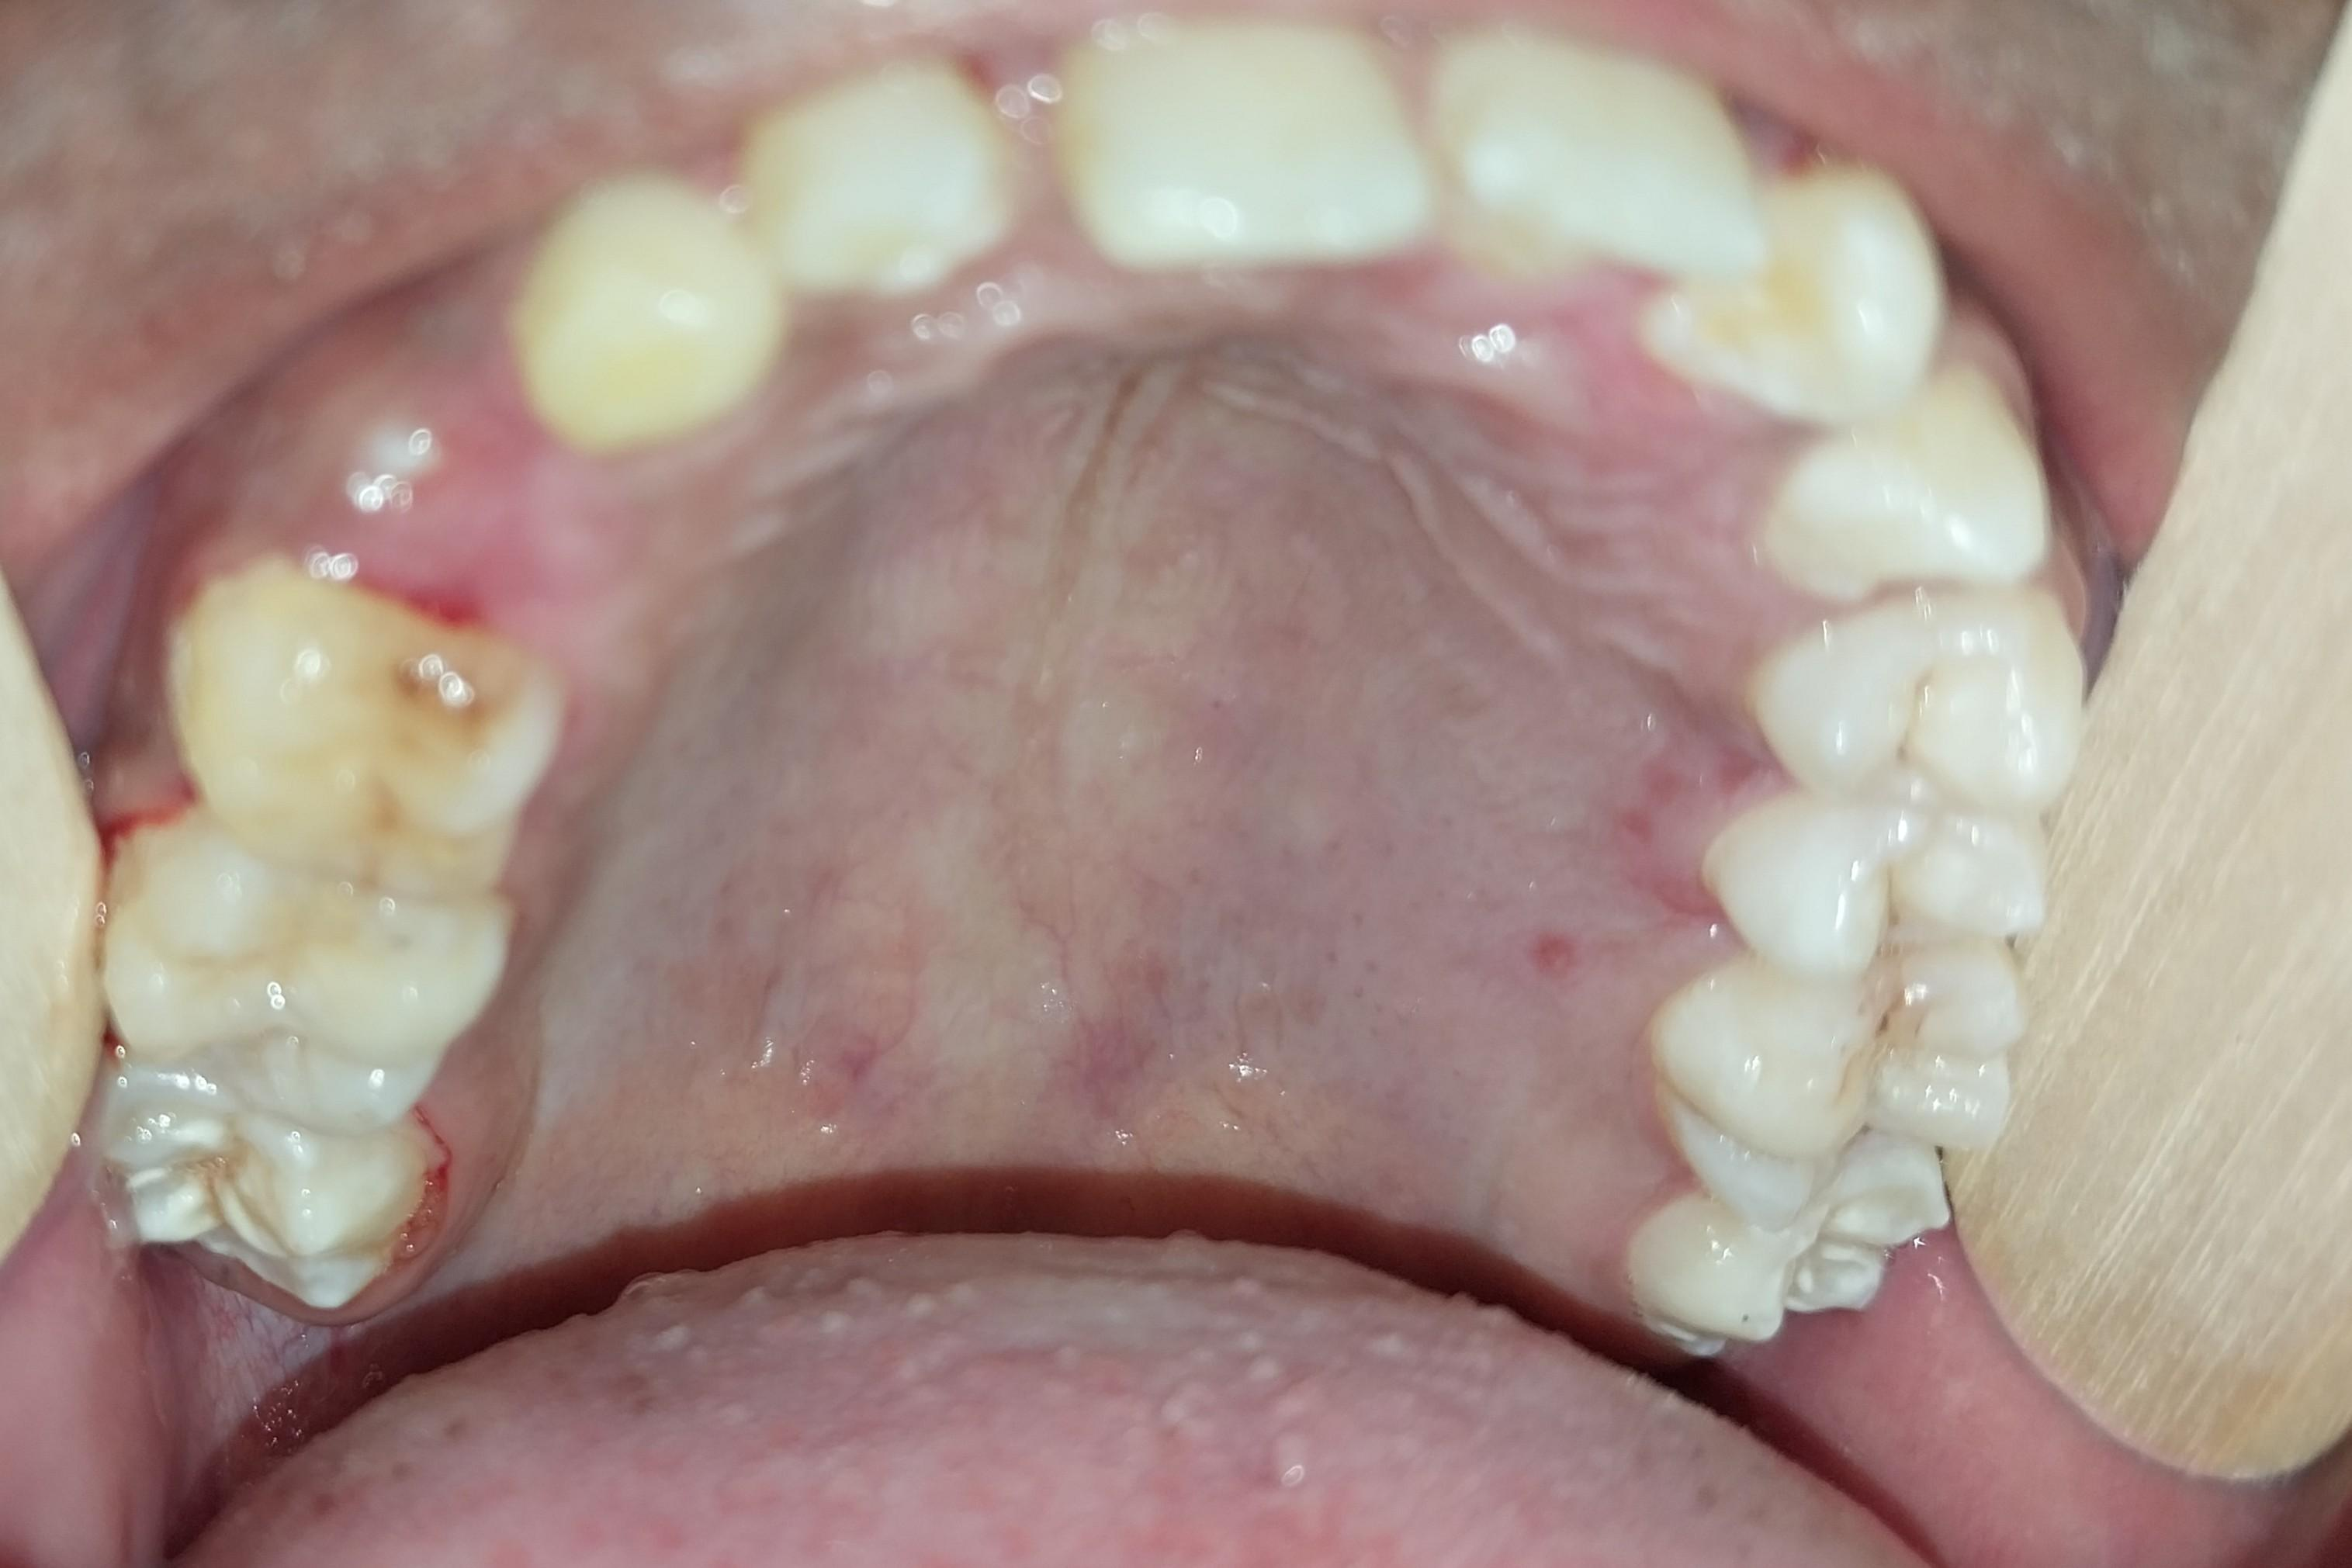D: (1673, 931, 2013, 1249), (1721, 776, 2059, 987)
